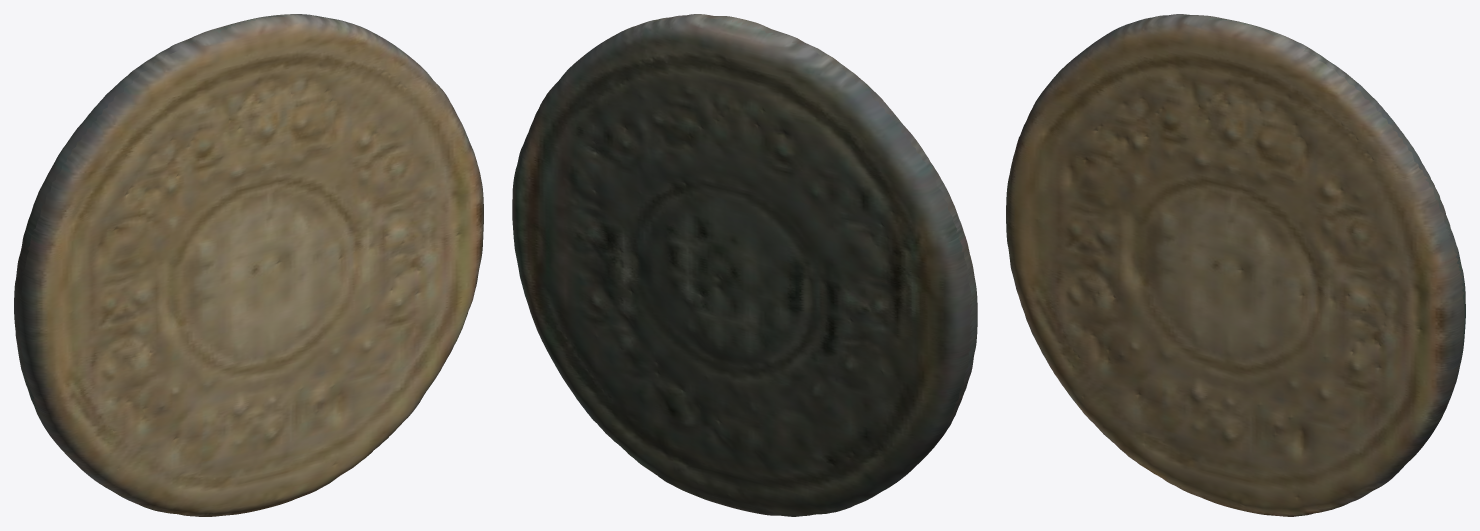
The model's file is kfl-2314.glb.
3 renders of one model, left to right at view 1: azimuth 30°, elevation 25°; view 2: azimuth 150°, elevation 25°; view 3: azimuth 330°, elevation 25°, orthographic.
Parts seen in each view (by area): view 1: geometry_0; view 2: geometry_0; view 3: geometry_0.
Boxes of the visible parts, box(x1,y1,x2,y2) form: geometry_0: box(14, 14, 483, 516); geometry_0: box(512, 14, 977, 516); geometry_0: box(1006, 14, 1465, 516).
Size of the model in its own units: 0.9782 by 0.9935 by 0.1255.
1 material, 1 textured.
